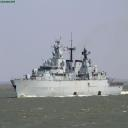Fragata: (11, 32, 124, 100)
